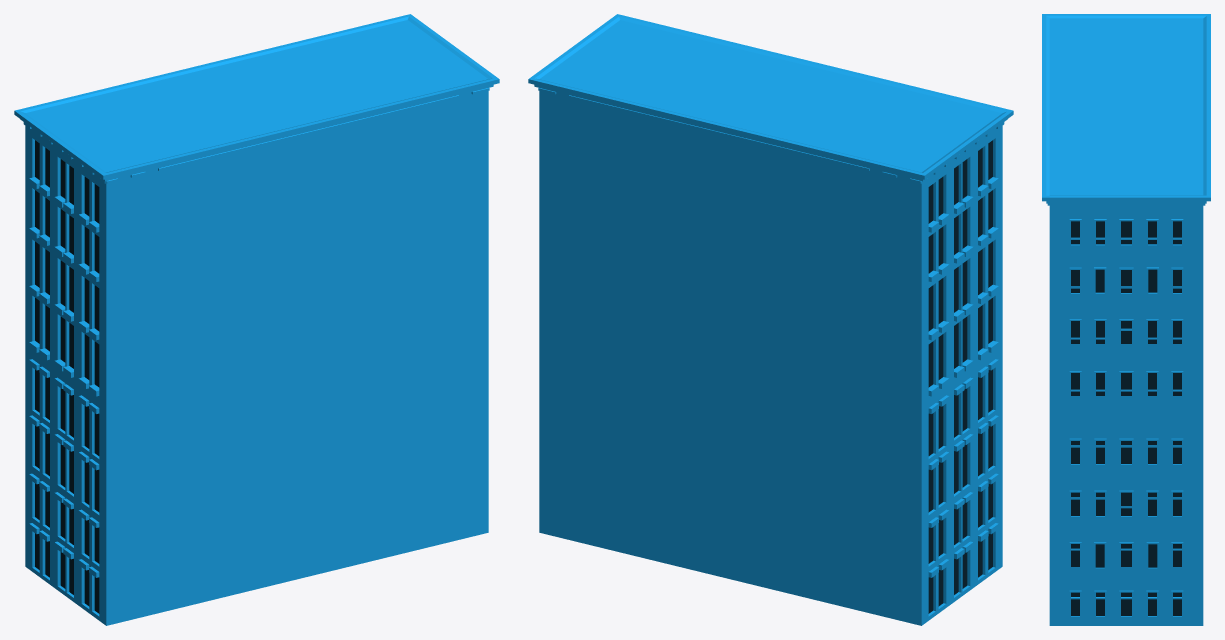
File: Building_012.fbx
3 views of the same model, side by side, from view 1: azimuth 30°, elevation 25°; view 2: azimuth 150°, elevation 25°; view 3: azimuth 270°, elevation 25° (orthographic). The views are drawn at different scales.
Parts seen in each view (by area): view 1: Box1328; view 2: Box1328; view 3: Box1328.
Boxes of the visible parts, bbox=[...] form: Box1328: bbox=[14, 14, 499, 625]; Box1328: bbox=[528, 14, 1013, 625]; Box1328: bbox=[1042, 14, 1210, 625].
Bounding box in the file's own units: 202 × 78.68 × 222.
